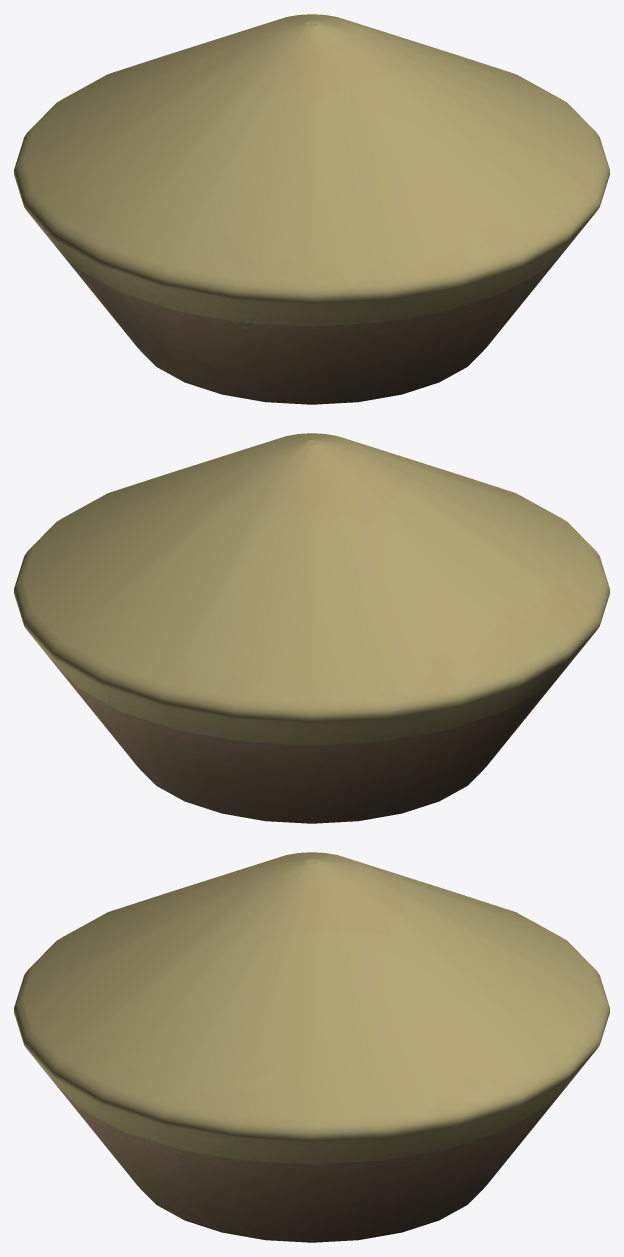
File: osiris_rex_heatshield.gltf
3 renders of one model, top to bottom at view 1: azimuth 30°, elevation 25°; view 2: azimuth 150°, elevation 25°; view 3: azimuth 270°, elevation 25°, orthographic.
Visible parts, largest first — view 1: heatshield; view 2: heatshield; view 3: heatshield.
Boxes of the visible parts, x1,y1,x2,y2 form: heatshield: [14, 14, 609, 404]; heatshield: [14, 433, 609, 823]; heatshield: [14, 852, 609, 1242].
Size of the model in its own units: 0.8163 by 0.4692 by 0.8163.
Materials: 1 (1 with a texture image).
